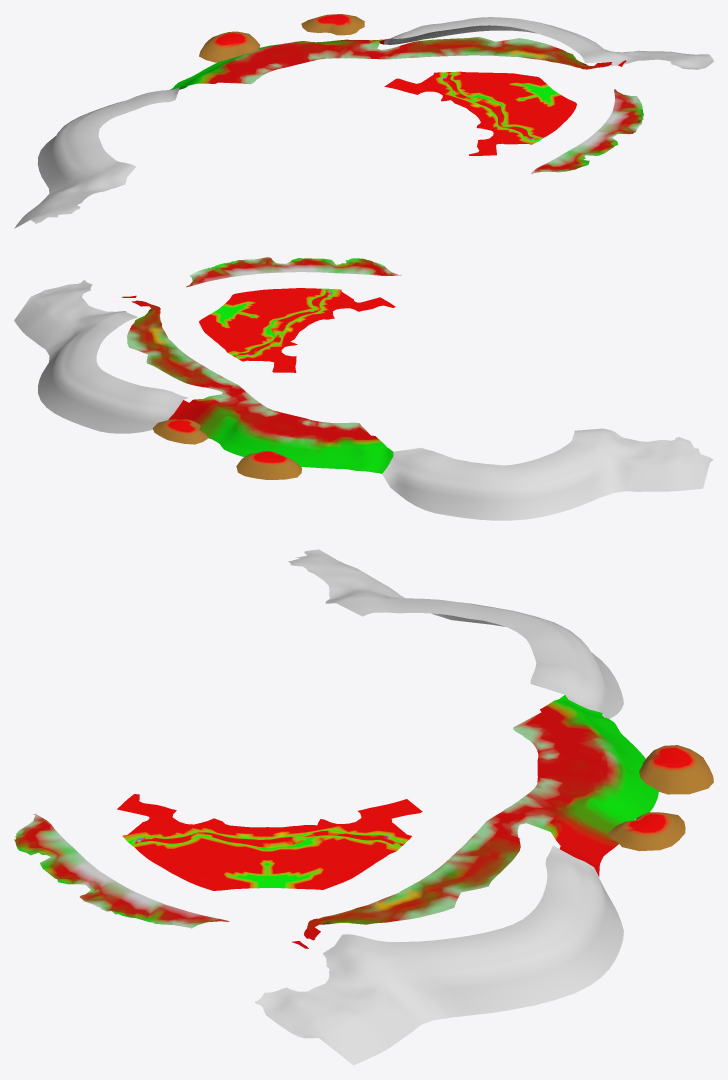
The model's file is pref_sm_beach_tech_hunt_beta_01_two_sands_lv3.fbx.
The picture shows the model from 3 angles, top to bottom: view 1: azimuth 30°, elevation 25°; view 2: azimuth 150°, elevation 25°; view 3: azimuth 270°, elevation 25°; orthographic projection. The views are drawn at different scales.
Visible parts, largest first — view 1: sm_beach_tech_hunt_beta_01_two_sands_a_lv3, sm_beach_tech_hunt_beta_01_two_sands_g_lv3, sm_beach_tech_hunt_beta_01_two_sands_d_lv3, sm_beach_tech_hunt_beta_01_two_sands_f_lv3, sm_beach_tech_hunt_beta_01_two_sands_c_lv3, sm_beach_tech_hunt_beta_01_two_sands_b_lv3, sm_beach_tech_hunt_beta_01_two_sands_e_lv3; view 2: sm_beach_tech_hunt_beta_01_two_sands_g_lv3, sm_beach_tech_hunt_beta_01_two_sands_f_lv3, sm_beach_tech_hunt_beta_01_two_sands_d_lv3, sm_beach_tech_hunt_beta_01_two_sands_a_lv3, sm_beach_tech_hunt_beta_01_two_sands_c_lv3, sm_beach_tech_hunt_beta_01_two_sands_b_lv3, sm_beach_tech_hunt_beta_01_two_sands_e_lv3; view 3: sm_beach_tech_hunt_beta_01_two_sands_f_lv3, sm_beach_tech_hunt_beta_01_two_sands_a_lv3, sm_beach_tech_hunt_beta_01_two_sands_d_lv3, sm_beach_tech_hunt_beta_01_two_sands_g_lv3, sm_beach_tech_hunt_beta_01_two_sands_c_lv3, sm_beach_tech_hunt_beta_01_two_sands_b_lv3, sm_beach_tech_hunt_beta_01_two_sands_e_lv3.
Part boxes in pixels (x1,y1,x2,y2): sm_beach_tech_hunt_beta_01_two_sands_a_lv3: (384, 71, 576, 155); sm_beach_tech_hunt_beta_01_two_sands_g_lv3: (14, 87, 179, 228); sm_beach_tech_hunt_beta_01_two_sands_d_lv3: (170, 38, 407, 89); sm_beach_tech_hunt_beta_01_two_sands_f_lv3: (384, 17, 713, 69); sm_beach_tech_hunt_beta_01_two_sands_c_lv3: (405, 37, 626, 69); sm_beach_tech_hunt_beta_01_two_sands_b_lv3: (531, 89, 643, 174); sm_beach_tech_hunt_beta_01_two_sands_e_lv3: (199, 14, 364, 62); sm_beach_tech_hunt_beta_01_two_sands_g_lv3: (382, 428, 713, 520); sm_beach_tech_hunt_beta_01_two_sands_f_lv3: (14, 280, 187, 433); sm_beach_tech_hunt_beta_01_two_sands_d_lv3: (168, 378, 393, 473); sm_beach_tech_hunt_beta_01_two_sands_a_lv3: (199, 288, 395, 372); sm_beach_tech_hunt_beta_01_two_sands_c_lv3: (121, 295, 225, 385); sm_beach_tech_hunt_beta_01_two_sands_b_lv3: (186, 257, 401, 287); sm_beach_tech_hunt_beta_01_two_sands_e_lv3: (152, 419, 301, 479); sm_beach_tech_hunt_beta_01_two_sands_f_lv3: (255, 845, 623, 1065); sm_beach_tech_hunt_beta_01_two_sands_a_lv3: (117, 794, 422, 890); sm_beach_tech_hunt_beta_01_two_sands_d_lv3: (476, 695, 658, 876); sm_beach_tech_hunt_beta_01_two_sands_g_lv3: (288, 549, 623, 718); sm_beach_tech_hunt_beta_01_two_sands_c_lv3: (292, 833, 520, 948); sm_beach_tech_hunt_beta_01_two_sands_b_lv3: (14, 813, 229, 928); sm_beach_tech_hunt_beta_01_two_sands_e_lv3: (608, 745, 713, 851).
Bounding box in the file's own units: 194 × 9.68 × 116.
